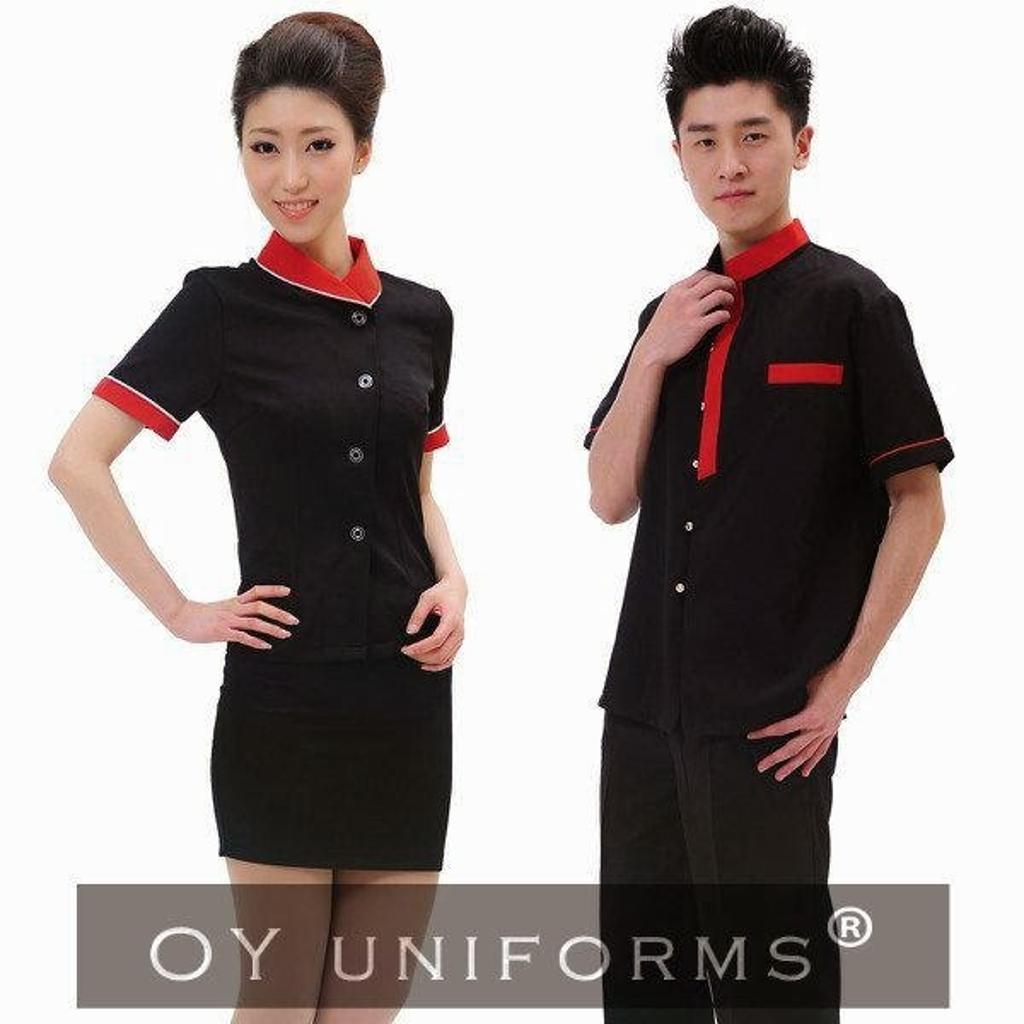face: (242, 74, 356, 240), (678, 74, 794, 232)
